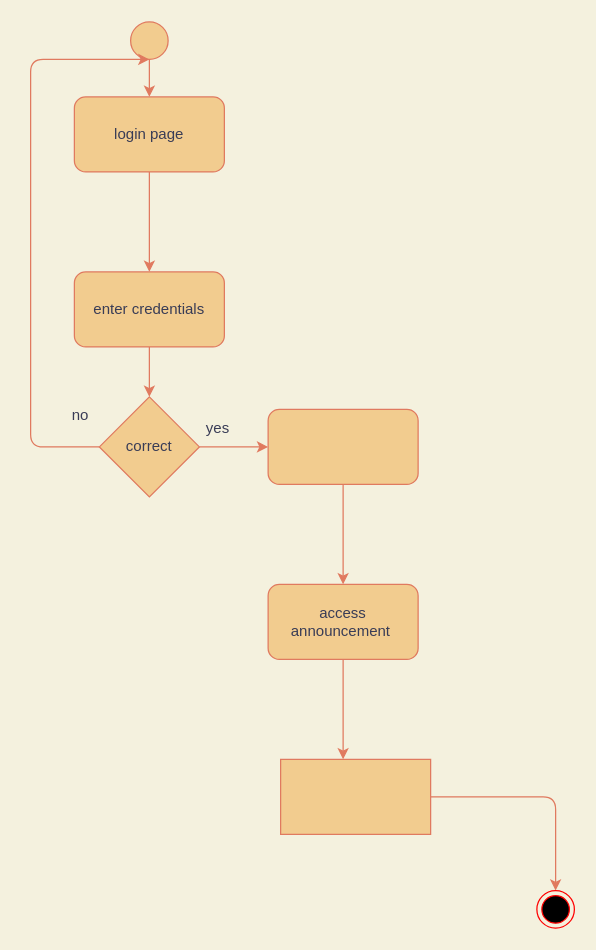
Image size: 596x950. Some labels were removed from this diagram. The centre of each missing label's shape, as x and y in pixels:
"team leader dashboard" goes at (x=342, y=446).
"view announcements" goes at (x=355, y=796).
